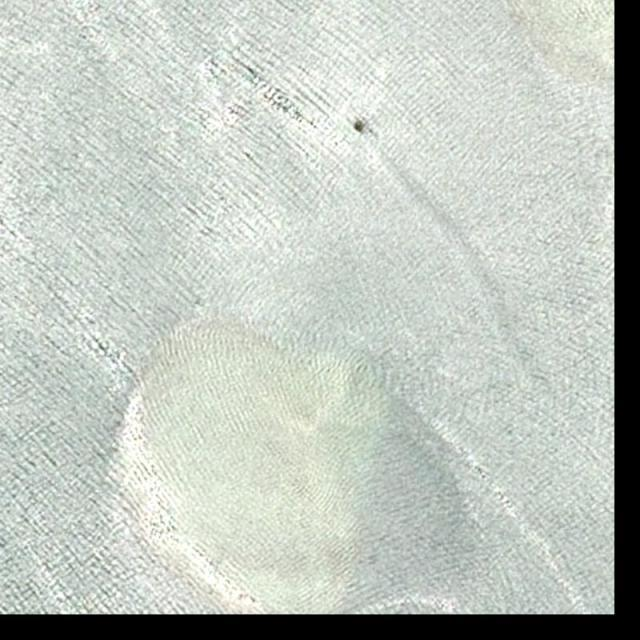ship: (356, 120, 366, 133)
